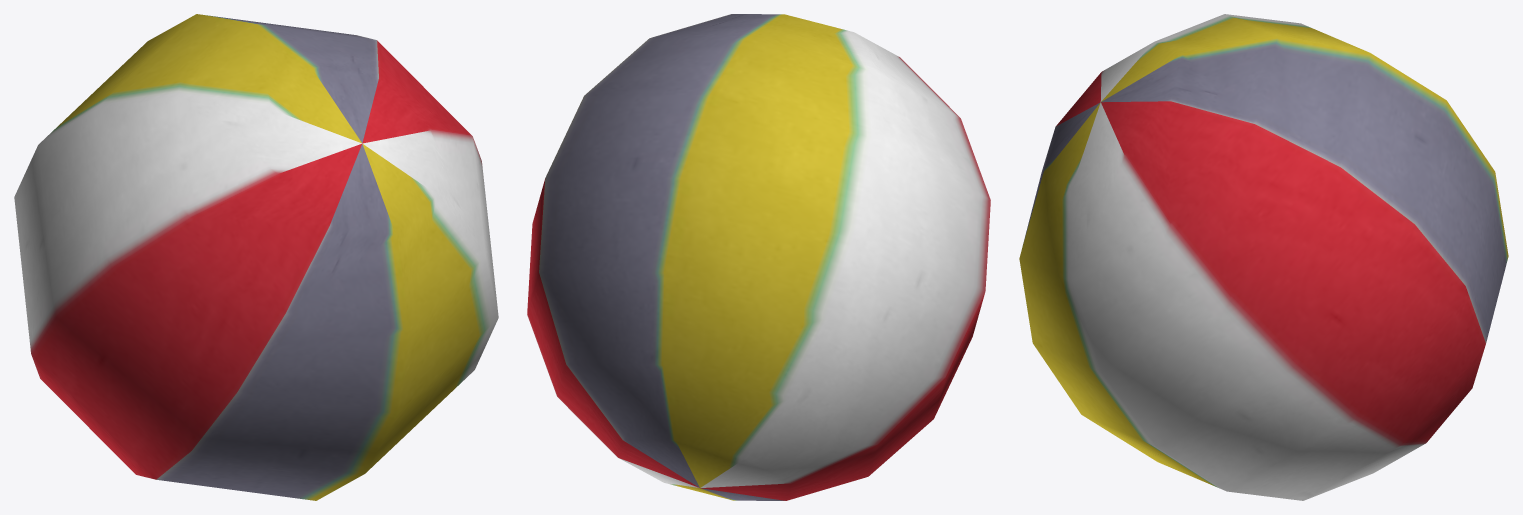
Rendered from Ball.fbx.
The picture shows the model from 3 angles, left to right: view 1: azimuth 30°, elevation 25°; view 2: azimuth 150°, elevation 25°; view 3: azimuth 270°, elevation 25°; orthographic projection. The views are drawn at different scales.
Visible parts, largest first — view 1: Ball; view 2: Ball; view 3: Ball.
Part boxes in pixels (x1=…): Ball: x1=14, y1=14, x2=498, y2=500; Ball: x1=527, y1=14, x2=990, y2=500; Ball: x1=1019, y1=14, x2=1508, y2=500.
Bounding box in the file's own units: 0.6063 × 0.6102 × 0.6056.
